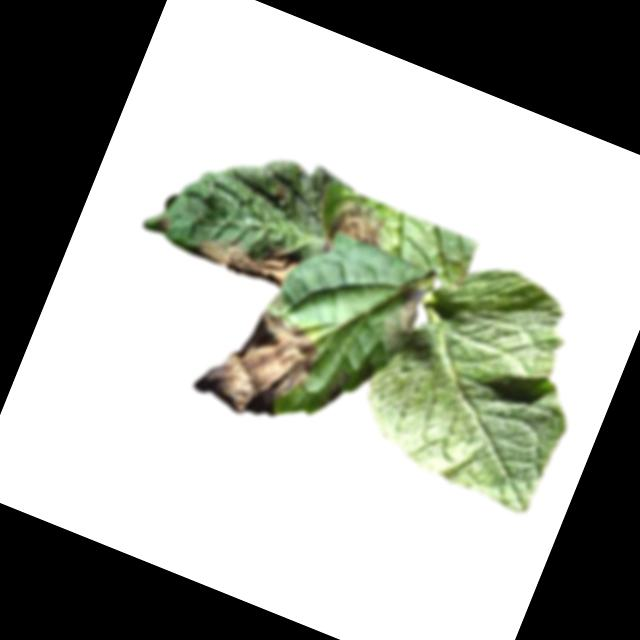Late_blight: (189, 291, 330, 434), (193, 218, 303, 295), (318, 196, 390, 270), (383, 277, 435, 348), (321, 369, 351, 412), (154, 213, 175, 235)
healthy: (345, 238, 615, 519)
